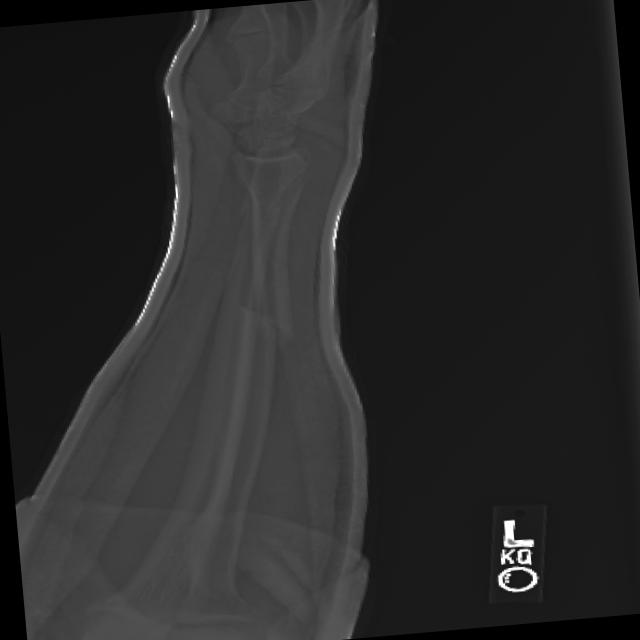forearm fracture: (180, 265, 319, 379)
